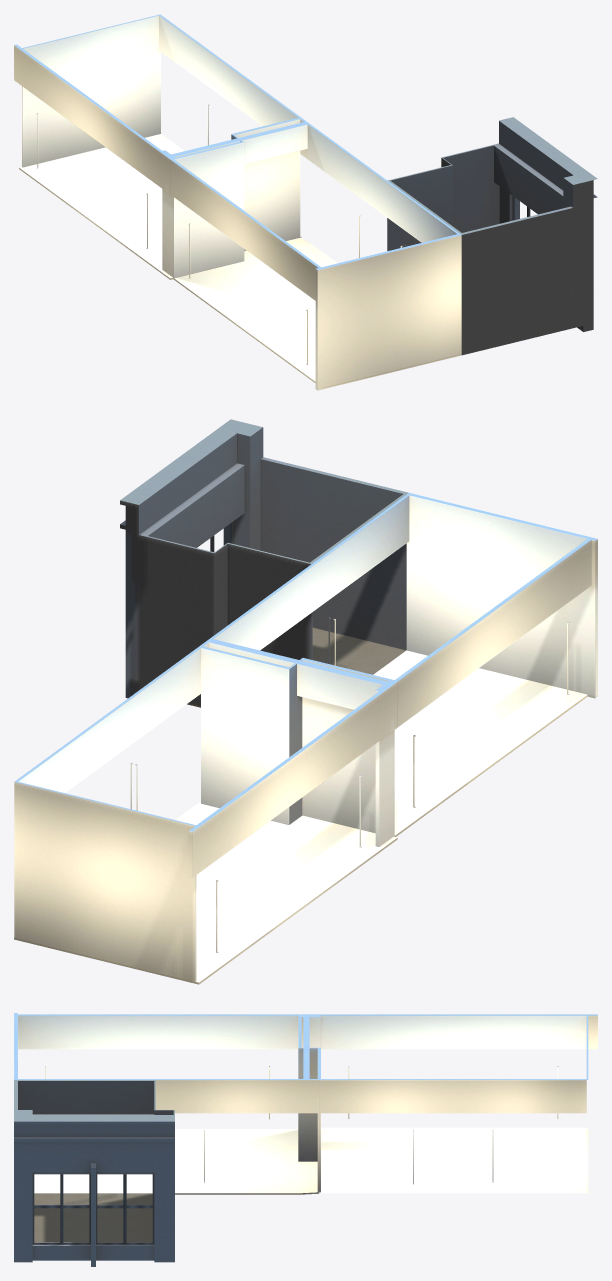
The picture shows the model from 3 angles, top to bottom: view 1: azimuth 30°, elevation 25°; view 2: azimuth 150°, elevation 25°; view 3: azimuth 270°, elevation 25°; orthographic projection. The views are drawn at different scales.
Parts seen in each view (by area): view 1: hc_2floor_room022_2, hc_2floor_room023_3, hc_2floor_room021_1; view 2: hc_2floor_room023_3, hc_2floor_room022_2, hc_2floor_room021_1; view 3: hc_2floor_room023_3, hc_2floor_room022_2, hc_2floor_room021_1.
Boxes of the visible parts, x1=… form: hc_2floor_room022_2: x1=168, y1=118, x2=461, y2=390; hc_2floor_room023_3: x1=14, y1=14, x2=301, y2=279; hc_2floor_room021_1: x1=387, y1=117, x2=597, y2=355; hc_2floor_room023_3: x1=14, y1=646, x2=397, y2=984; hc_2floor_room022_2: x1=199, y1=493, x2=597, y2=836; hc_2floor_room021_1: x1=120, y1=419, x2=408, y2=707; hc_2floor_room023_3: x1=300, y1=1014, x2=597, y2=1193; hc_2floor_room022_2: x1=14, y1=1013, x2=319, y2=1194; hc_2floor_room021_1: x1=14, y1=1080, x2=174, y2=1266.
Bounding box in the file's own units: 0.786 × 0.3929 × 1.46.
3 materials, 3 textured.
